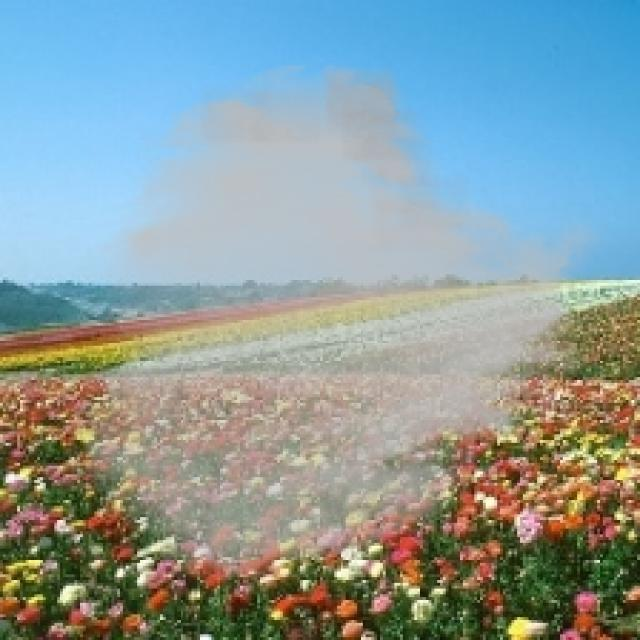smoke: (71, 57, 603, 586)
